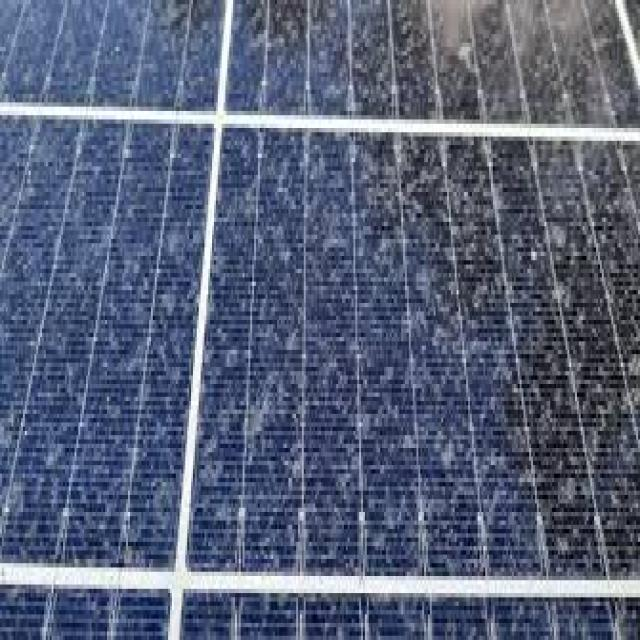faulty: (10, 9, 635, 628)
